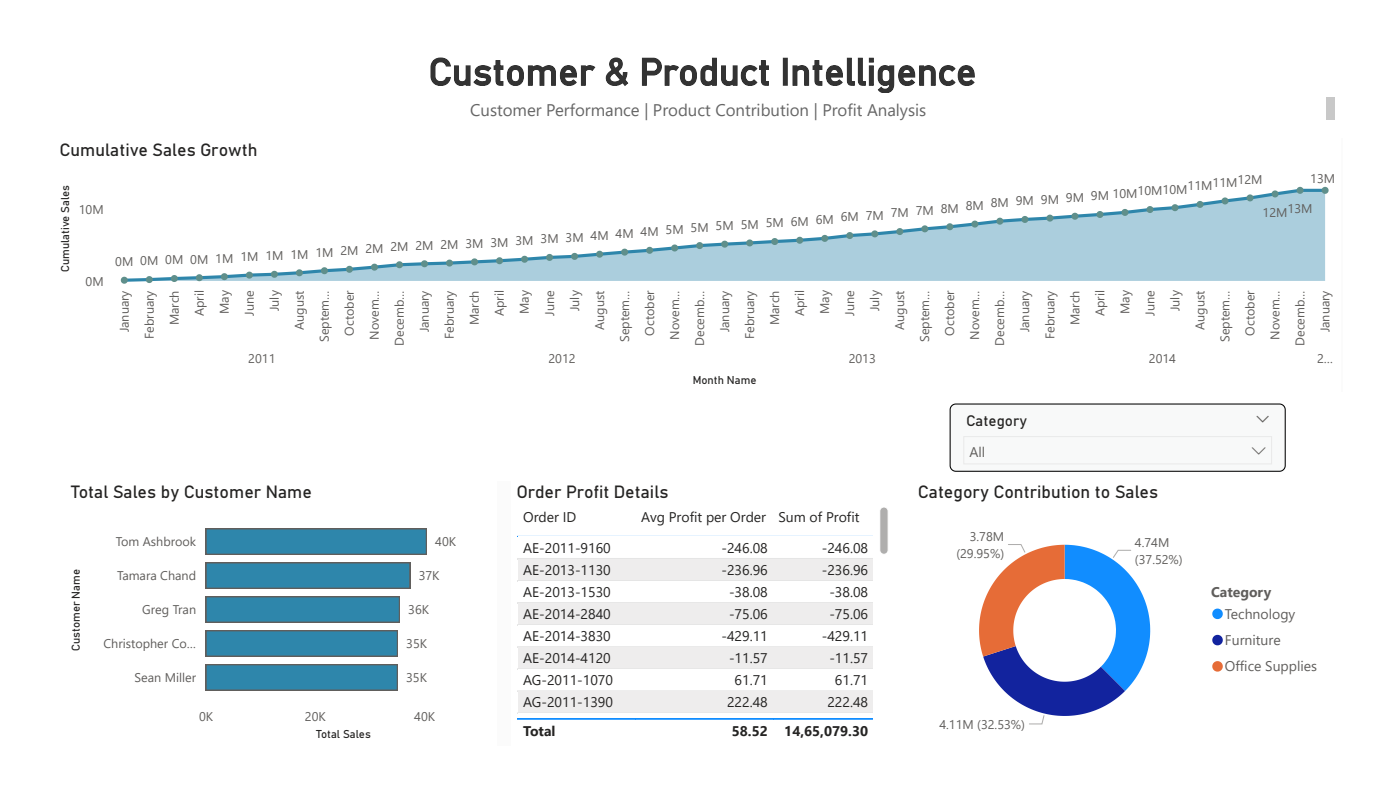

This screenshot's page, from the dashboard's own definition file:
{"tool":"powerbi","page":{"name":"Customer & Product Intelligence","canvas":[1280,720],"ordinal":2},"visuals":[{"type":"shape","box":[844.5,433.6,399.1,265.5],"z":0},{"type":"shape","box":[38.2,433.6,789.1,252.7],"z":1000},{"type":"shape","box":[30,108.2,1223.6,240.9],"z":2000},{"type":"areaChart","title":"Cumulative Sales Growth","fields":{"Category":["DimDate.Year","DimDate.Month Name"],"Y":["_Key Measures.Cumulative Sales"]},"box":[28.1,107.9,1223.7,241.3],"z":3000},{"type":"donutChart","title":"Category Contribution to Sales","fields":{"Category":["DimProduct.Category"],"Y":["_Measures.Total Sales"]},"box":[844.5,433.6,399.1,265.5],"z":4000},{"type":"tableEx","title":"Order Profit Details","fields":{"Values":["FactOrders.Order ID","_Key Measures.Avg Profit per Order","Sum(FactOrders.Profit)"]},"box":[462.7,433.6,364.5,252.7],"z":5000},{"type":"slicer","fields":{"Values":["DimProduct.Category"]},"box":[880,360,320,65.5],"z":6000},{"type":"barChart","fields":{"Category":["DimCustomer.Customer Name"],"Y":["_Measures.Total Sales"]},"box":[38.2,433.6,410.9,252.7],"z":7000},{"type":"textbox","title":"Customer & Product Intelligence","box":[38.2,22.8,1213.7,75.7],"z":8000}]}

Visuals, with their boxes in screenshot pixels (x1, y1, x2, y2), scaled from the page's 1280x720 canvas onto the 1395x807 screenshot:
shape: (x1=920, y1=486, x2=1355, y2=784)
shape: (x1=42, y1=486, x2=902, y2=769)
shape: (x1=33, y1=121, x2=1366, y2=391)
"Cumulative Sales Growth" areaChart: (x1=31, y1=121, x2=1364, y2=391)
"Category Contribution to Sales" donutChart: (x1=920, y1=486, x2=1355, y2=784)
"Order Profit Details" tableEx: (x1=504, y1=486, x2=902, y2=769)
slicer - DimProduct.Category: (x1=959, y1=404, x2=1308, y2=477)
barChart - DimCustomer.Customer Name x _Measures.Total Sales: (x1=42, y1=486, x2=489, y2=769)
"Customer & Product Intelligence" textbox: (x1=42, y1=26, x2=1364, y2=110)
